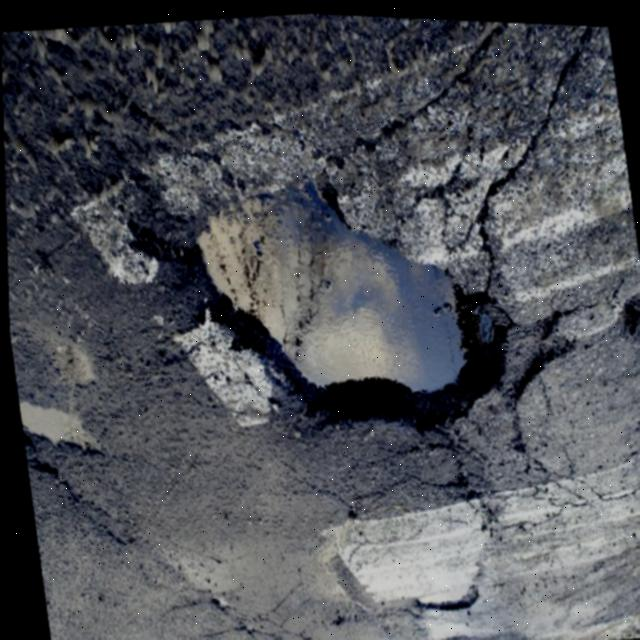Pothole: (168, 150, 524, 482), (15, 387, 109, 479), (412, 571, 486, 626), (618, 273, 640, 362)
